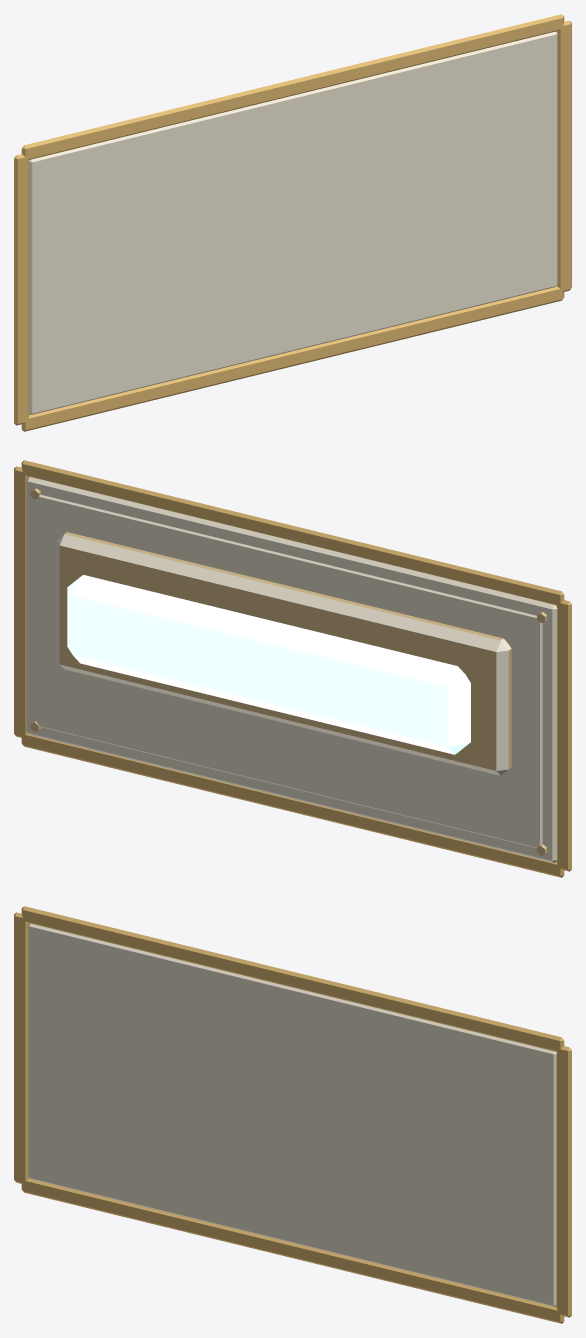
Rendered from Ctl_Button_2x1.fbx.
The picture shows the model from 3 angles, top to bottom: view 1: azimuth 30°, elevation 25°; view 2: azimuth 150°, elevation 25°; view 3: azimuth 330°, elevation 25°; orthographic projection.
Parts seen in each view (by area): view 1: Ctl_Button_2x1, Ctl_Button_2x1_Frame; view 2: Ctl_Button_2x1, Moving.001, Ctl_Button_2x1_Frame; view 3: Ctl_Button_2x1, Ctl_Button_2x1_Frame.
Part boxes in pixels (x1,y1,x2,y2): Ctl_Button_2x1: [29, 31, 557, 414]; Ctl_Button_2x1_Frame: [14, 14, 571, 431]; Ctl_Button_2x1: [26, 476, 557, 862]; Moving.001: [67, 575, 470, 754]; Ctl_Button_2x1_Frame: [14, 460, 571, 877]; Ctl_Button_2x1: [28, 923, 556, 1306]; Ctl_Button_2x1_Frame: [14, 906, 571, 1323].
Size of the model in its own units: 2.16 by 1.06 by 0.23.
